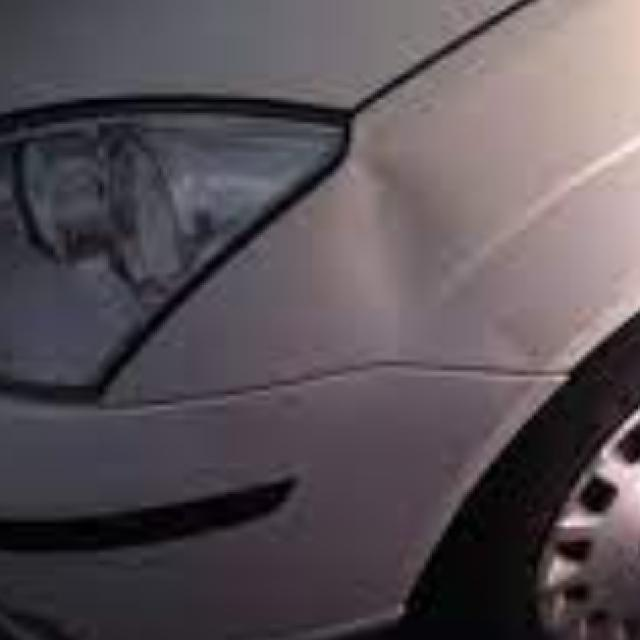dents: (342, 149, 496, 347)
